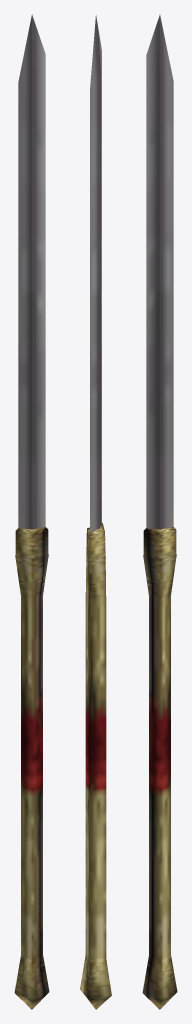
Rendered from rhomphaia_a.dae.
3 views of the same model, side by side, from view 1: azimuth 90°, elevation 25°; view 2: azimuth 150°, elevation 25°; view 3: azimuth 270°, elevation 25° (orthographic).
Parts seen in each view (by area): view 1: Rhomphaia_A; view 2: Rhomphaia_A; view 3: Rhomphaia_A.
Boxes of the visible parts, x1=… form: Rhomphaia_A: x1=14, y1=14, x2=49, y2=1009; Rhomphaia_A: x1=80, y1=15, x2=111, y2=1009; Rhomphaia_A: x1=142, y1=15, x2=177, y2=1009.
Size of the model in its own units: 0.1282 by 4.04 by 0.1283.
